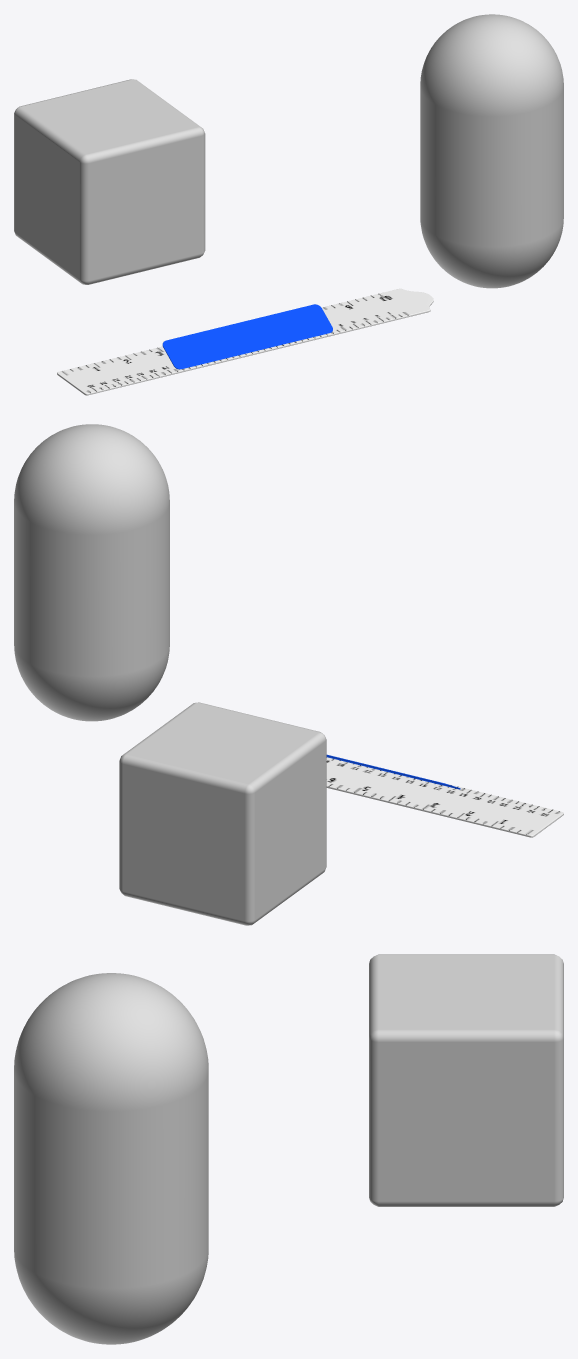
Rendered from testing.dae.
3 views of the same model, one above another, from view 1: azimuth 30°, elevation 25°; view 2: azimuth 150°, elevation 25°; view 3: azimuth 270°, elevation 25° (orthographic). The views are drawn at different scales.
Parts seen in each view (by area): view 1: Generated (×3), ruler_straight_base_stylized_lod0; view 2: Generated (×2), ruler_straight_base_stylized_lod0; view 3: Generated (×2).
Boxes of the visible parts, left/top/right/bottom form: Generated (×3): left=14, top=14, right=563, bottom=369; ruler_straight_base_stylized_lod0: left=57, top=288, right=433, bottom=395; Generated (×2): left=14, top=424, right=326, bottom=925; ruler_straight_base_stylized_lod0: left=326, top=755, right=563, bottom=837; Generated (×2): left=14, top=954, right=563, bottom=1344.
Size of the model in its own units: 0.3881 by 0.2005 by 0.282.
4 materials, 1 textured.
